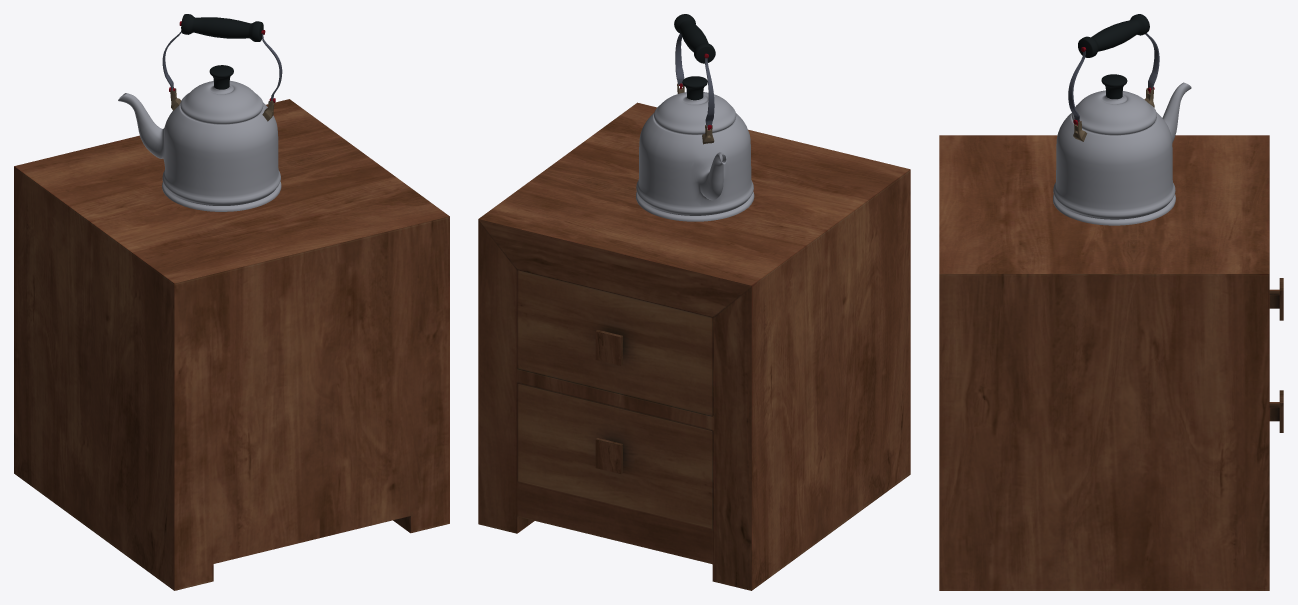
Rendered from TeaKettle.glb.
The picture shows the model from 3 angles, left to right: view 1: azimuth 30°, elevation 25°; view 2: azimuth 150°, elevation 25°; view 3: azimuth 270°, elevation 25°; orthographic projection. The views are drawn at different scales.
Visible parts, largest first — view 1: Bollard, Circle01, ID15, ID29; view 2: Bollard, Circle01, ID15, ID29; view 3: Bollard, Circle01, ID15, ID29, ID21.
Part boxes in pixels (x1=…): Bollard: x1=14, y1=99, x2=449, y2=590; Circle01: x1=118, y1=93, x2=281, y2=211; ID15: x1=180, y1=80, x2=263, y2=124; ID29: x1=181, y1=14, x2=263, y2=41; Bollard: x1=478, y1=102, x2=910, y2=590; Circle01: x1=636, y1=113, x2=754, y2=221; ID15: x1=654, y1=92, x2=736, y2=134; ID29: x1=674, y1=14, x2=715, y2=63; Bollard: x1=939, y1=135, x2=1283, y2=590; Circle01: x1=1053, y1=82, x2=1191, y2=225; ID15: x1=1071, y1=90, x2=1156, y2=135; ID29: x1=1078, y1=14, x2=1149, y2=57; ID21: x1=1101, y1=74, x2=1127, y2=99.
Size of the model in its own units: 0.6138 by 1.02 by 0.645.
Materials: 6 (1 with a texture image).
